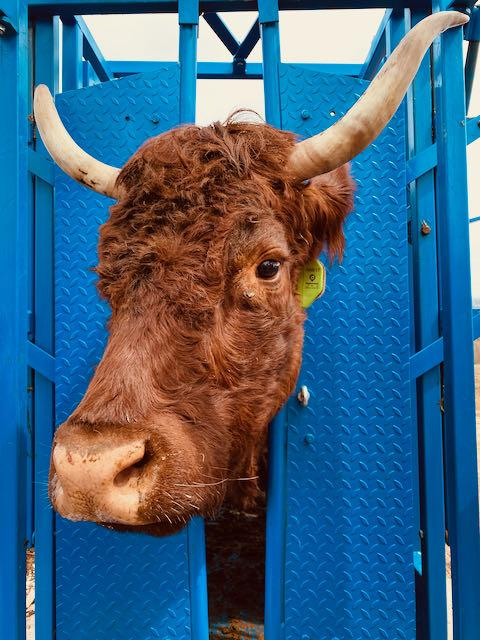muzzles: (37, 428, 197, 543)
